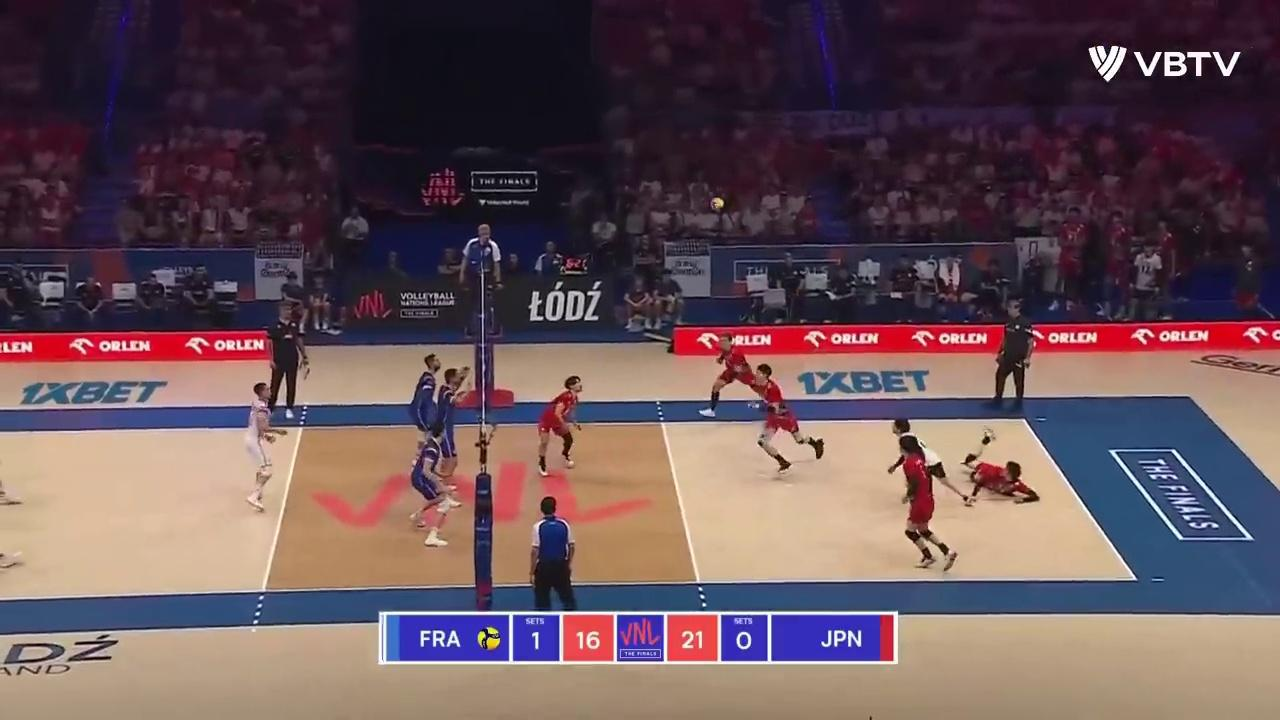ball: (707, 196, 724, 213)
